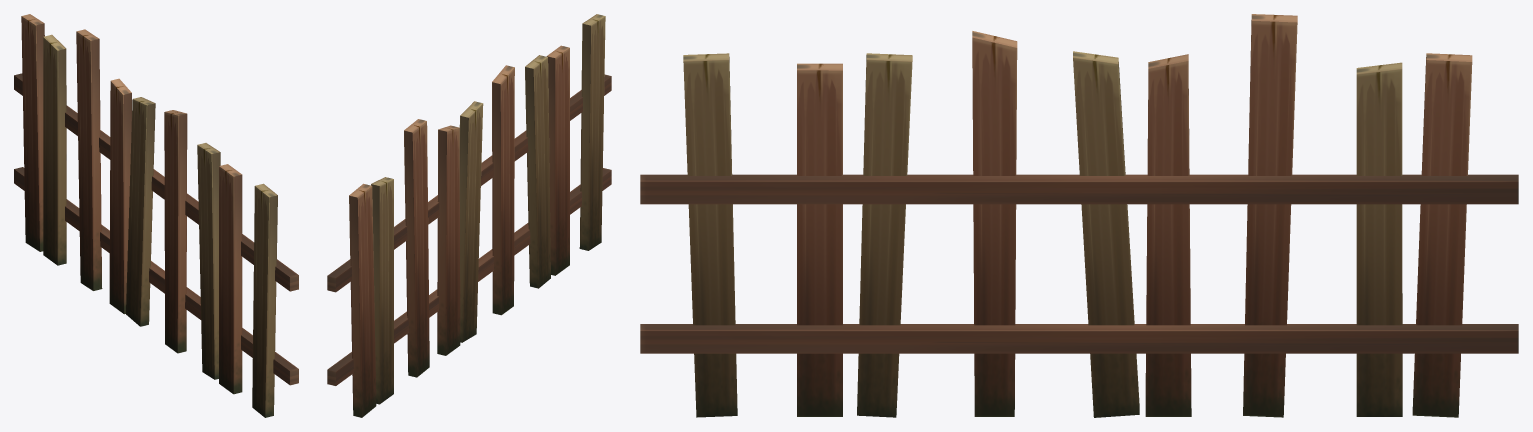
File: BG_halloween_town_wood_fence_short.FBX
The picture shows the model from 3 angles, left to right: view 1: azimuth 30°, elevation 25°; view 2: azimuth 150°, elevation 25°; view 3: azimuth 270°, elevation 25°; orthographic projection. The views are drawn at different scales.
Visible parts, largest first — view 1: BG_halloween_town_wood_fence_short; view 2: BG_halloween_town_wood_fence_short; view 3: BG_halloween_town_wood_fence_short.
Boxes of the visible parts, x1=… form: BG_halloween_town_wood_fence_short: x1=14, y1=14, x2=298, y2=417; BG_halloween_town_wood_fence_short: x1=327, y1=14, x2=611, y2=417; BG_halloween_town_wood_fence_short: x1=640, y1=14, x2=1518, y2=417.
Bounding box in the file's own units: 8.4 × 124 × 249.
